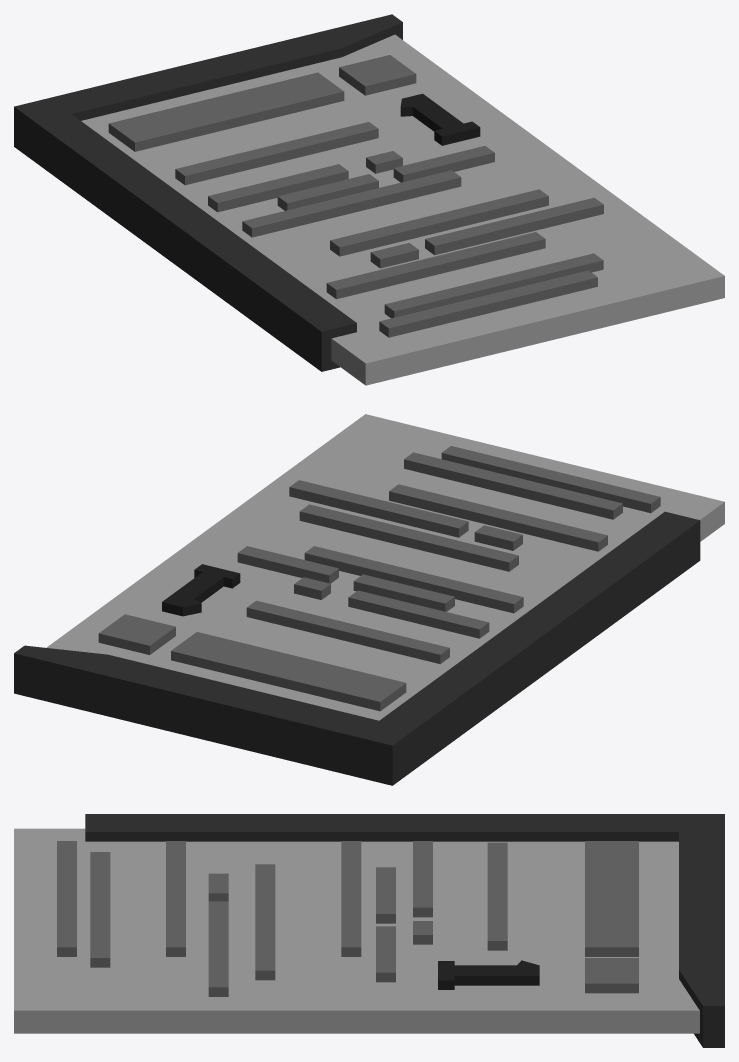
The model's file is dossier_1.FBX.
3 renders of one model, top to bottom at view 1: azimuth 30°, elevation 25°; view 2: azimuth 150°, elevation 25°; view 3: azimuth 270°, elevation 25°, orthographic. The views are drawn at different scales.
Parts seen in each view (by area): view 1: dossier_1; view 2: dossier_1; view 3: dossier_1.
Part boxes in pixels (<box>): dossier_1: <box>14,14,724,385</box>; dossier_1: <box>14,414,724,785</box>; dossier_1: <box>14,814,724,1047</box>.
Size of the model in its own units: 18.59 by 1.9 by 29.11.
